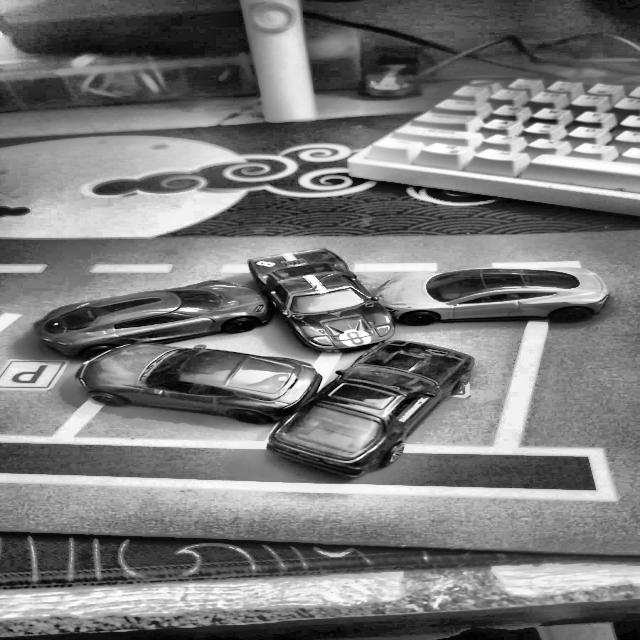car: (264, 339, 474, 478), (73, 342, 323, 424), (33, 279, 272, 357), (247, 248, 395, 352), (372, 266, 608, 326)
